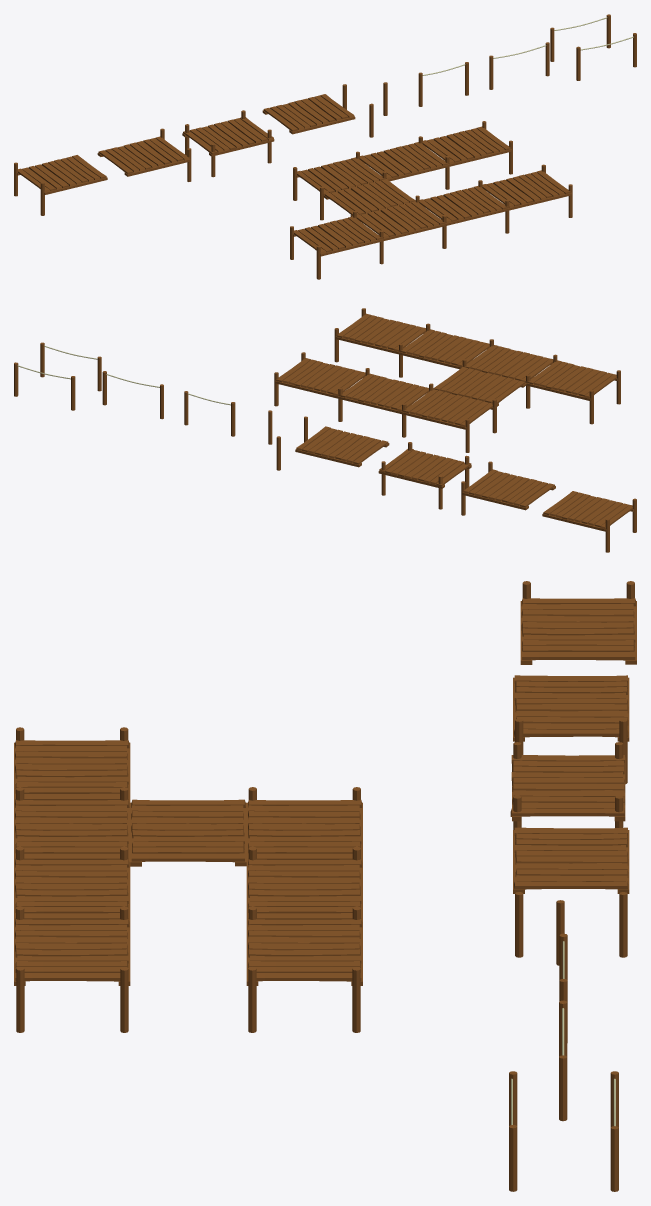
Rendered from Lowpoly_WoodenDocksV2_Collection.fbx.
3 renders of one model, top to bottom at view 1: azimuth 30°, elevation 25°; view 2: azimuth 150°, elevation 25°; view 3: azimuth 270°, elevation 25°, orthographic. The views are drawn at different scales.
Visible parts, largest first — view 1: WoodenDocks_Complete, Dock_platform_double_post, Dock_platform_singlepost_left, Dock_platform_singlepost_right, Dock_platform, Dock_railing_bigger_double, Dock_railing_bigger; view 2: WoodenDocks_Complete, Dock_platform_double_post, Dock_platform_singlepost_left, Dock_platform_singlepost_right, Dock_platform, Dock_railing_bigger_double, Dock_railing_small, Dock_railing_bigger; view 3: WoodenDocks_Complete, Dock_platform_singlepost_left, Dock_platform_double_post, Dock_platform_singlepost_right, Dock_platform, Dock_railing_bigger_double, Double_post, Dock_railing_bigger.
Boxes of the visible parts, x1,y1,x2,y2 form: WoodenDocks_Complete: [290, 121, 572, 279]; Dock_platform_double_post: [182, 110, 274, 177]; Dock_platform_singlepost_left: [14, 155, 107, 215]; Dock_platform_singlepost_right: [97, 128, 191, 181]; Dock_platform: [262, 94, 355, 134]; Dock_railing_bigger_double: [550, 14, 636, 80]; Dock_railing_bigger: [489, 42, 549, 89]; WoodenDocks_Complete: [274, 308, 620, 452]; Dock_platform_double_post: [378, 442, 471, 509]; Dock_platform_singlepost_left: [542, 491, 636, 552]; Dock_platform_singlepost_right: [461, 461, 555, 515]; Dock_platform: [295, 426, 389, 467]; Dock_railing_bigger_double: [14, 342, 101, 410]; Dock_railing_small: [184, 391, 235, 436]; Dock_railing_bigger: [102, 371, 163, 419]; WoodenDocks_Complete: [14, 727, 362, 1032]; Dock_platform_singlepost_left: [520, 581, 636, 664]; Dock_platform_double_post: [510, 742, 625, 829]; Dock_platform_singlepost_right: [513, 675, 629, 784]; Dock_platform: [513, 827, 629, 893]; Dock_railing_bigger_double: [509, 1071, 618, 1191]; Double_post: [515, 892, 627, 957]; Dock_railing_bigger: [559, 1000, 567, 1121].
Size of the model in its own units: 3251 by 232 by 1521.
